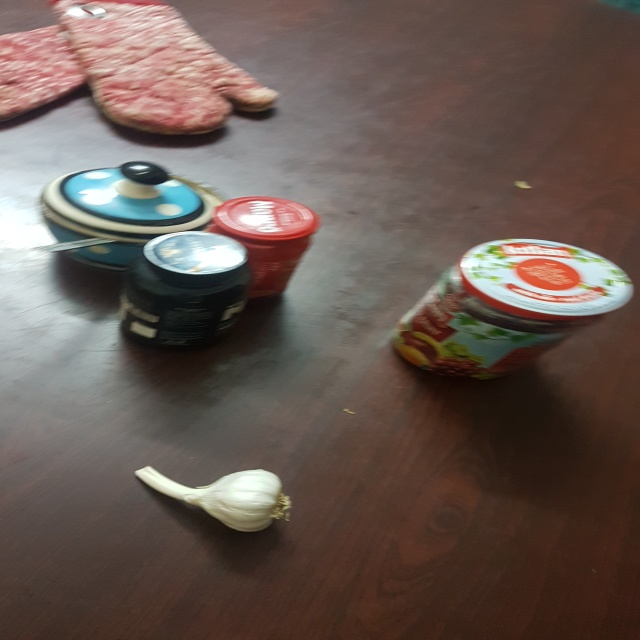garlic: (131, 459, 303, 544)
